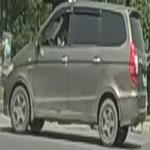wheel: (9, 84, 30, 136), (98, 97, 119, 147)
